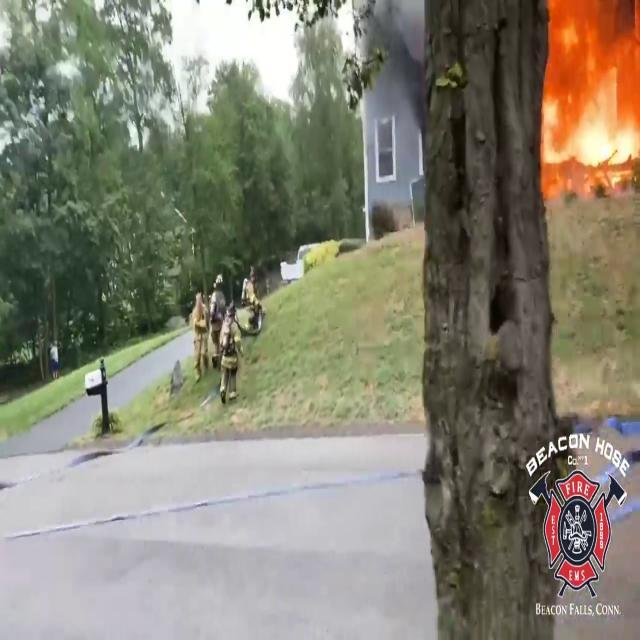Fire: (539, 1, 640, 188)
